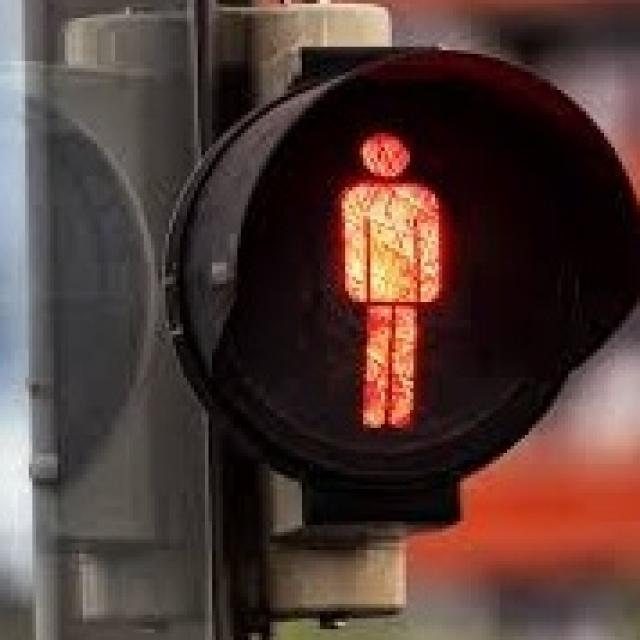red-light: (300, 102, 487, 447)
